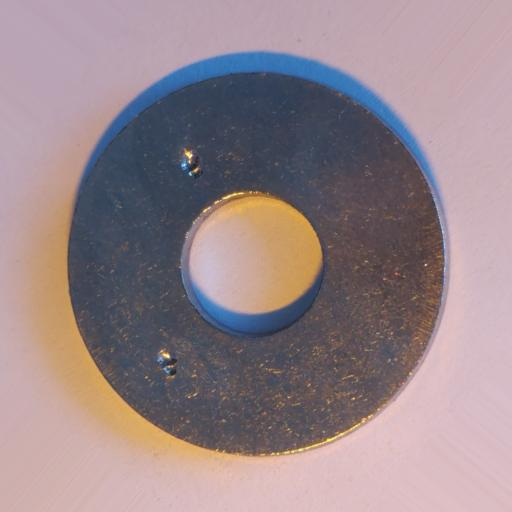circular_cavity: (178, 147, 204, 180), (155, 348, 179, 375)
